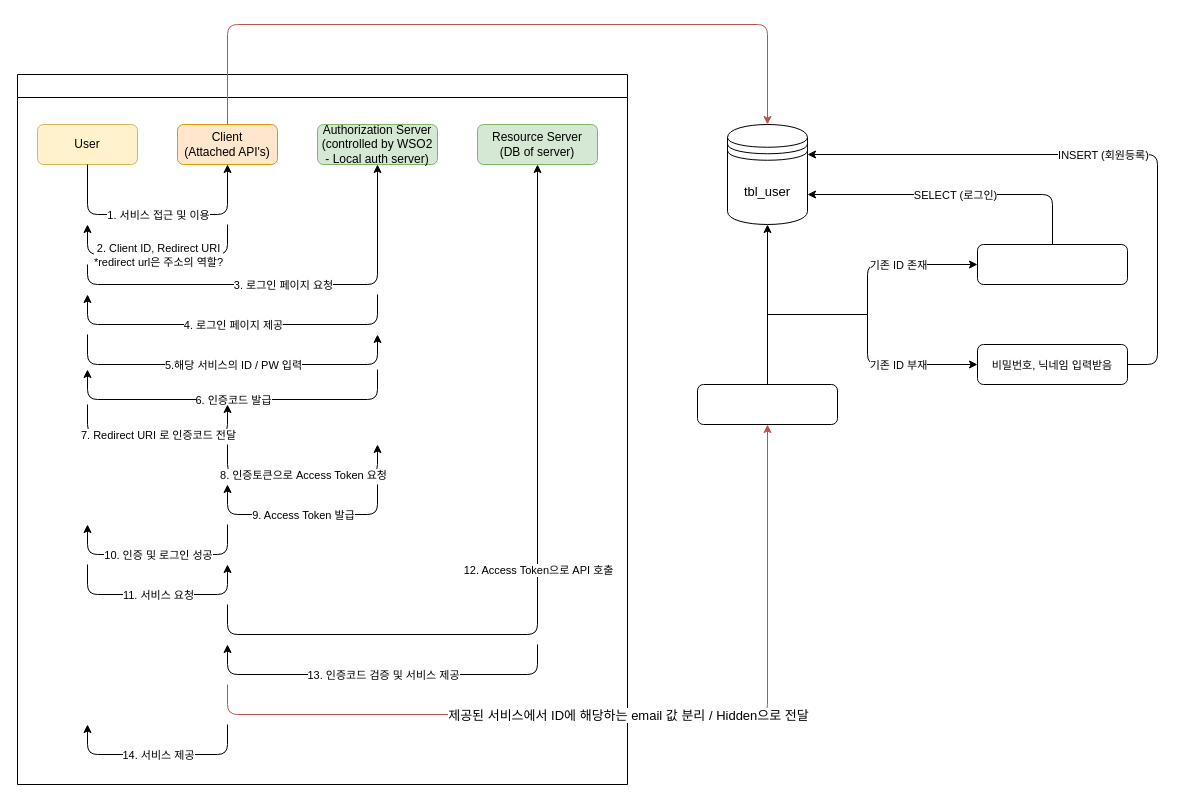
Some shapes in this 1183 by 802 pixel diagram are drawn without their labels. The shapes that lost their labels are listed below. From the top down, each one's box as (x1, y1, x2, y2) in pixels, then its label:
(976, 244, 1128, 284): 비밀번호만 입력받음
(696, 384, 838, 424): 전달받은 email 조회
(16, 74, 628, 784): Oauth 2 in WSO2
